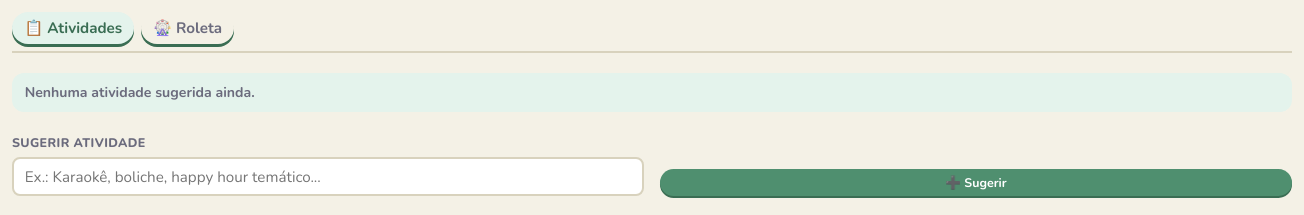
Test: HappyHourPainel › aba Roleta sem nenhuma atividade pede pra sugerir antes de girar
Expected: the text "Nenhuma atividade sugerida ainda." is shown, [12, 73, 1292, 112]
Click the tab "🎡 Roleta" at [188, 28], box [141, 12, 234, 44]
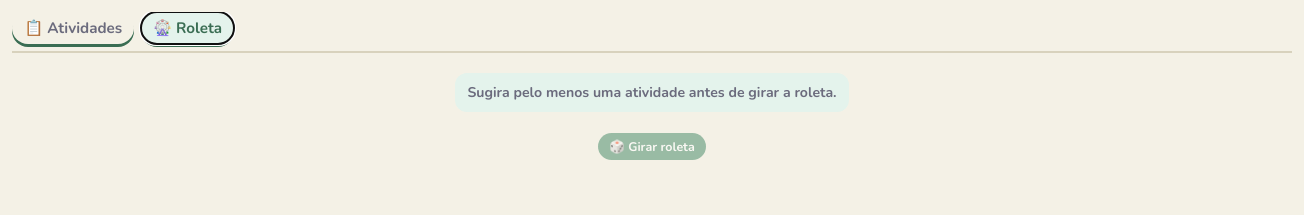
Expected: the text "Sugira pelo menos uma atividade antes de girar a roleta." is shown, [455, 73, 849, 112]
Expected: the button "🎲 Girar roleta" is disabled, [598, 133, 706, 160]
